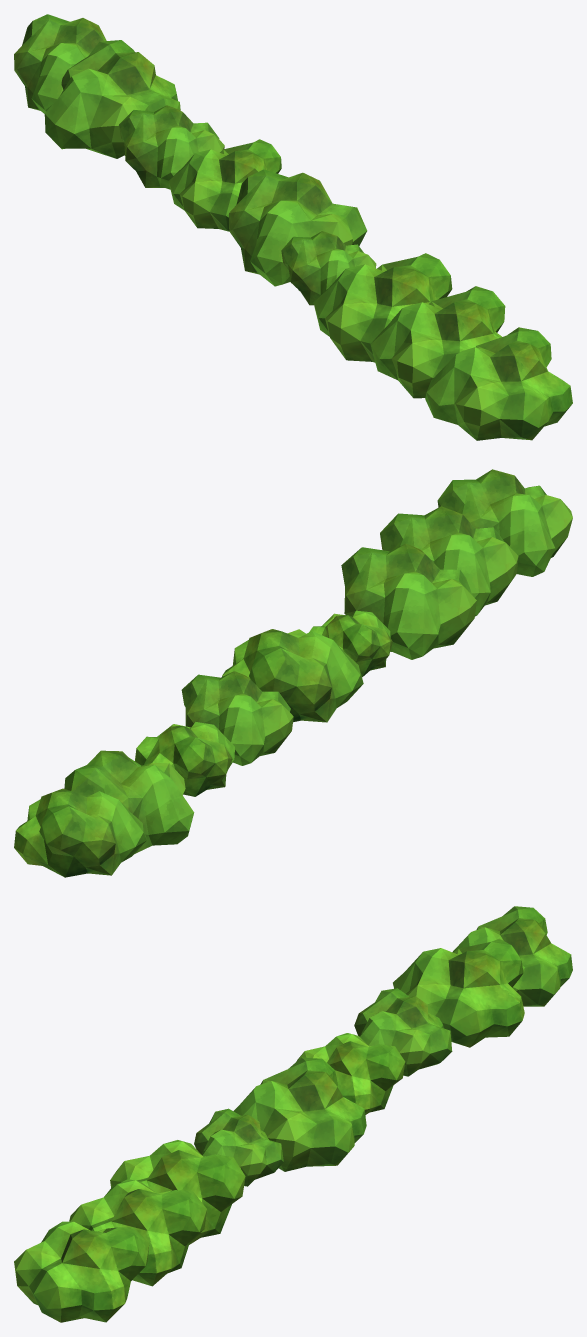
Rendered from Arbustos_Array 1.fbx.
3 renders of one model, top to bottom at view 1: azimuth 30°, elevation 25°; view 2: azimuth 150°, elevation 25°; view 3: azimuth 330°, elevation 25°, orthographic. The views are drawn at different scales.
Parts seen in each view (by area): view 1: Arbusto.001; view 2: Arbusto.001; view 3: Arbusto.001.
Boxes of the visible parts, left/top/right/bottom form: Arbusto.001: left=14, top=14, right=572, bottom=440; Arbusto.001: left=14, top=469, right=572, bottom=877; Arbusto.001: left=14, top=906, right=572, bottom=1322.
Bounding box in the file's own units: 366 × 209 × 2303.
1 material, 1 textured.
